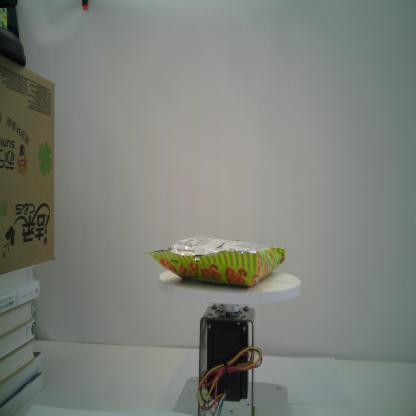Puffed Food: (143, 233, 288, 289)
